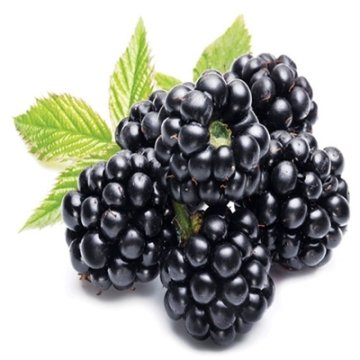Blackberry: (159, 207, 263, 348), (68, 150, 166, 294), (145, 82, 259, 202)
